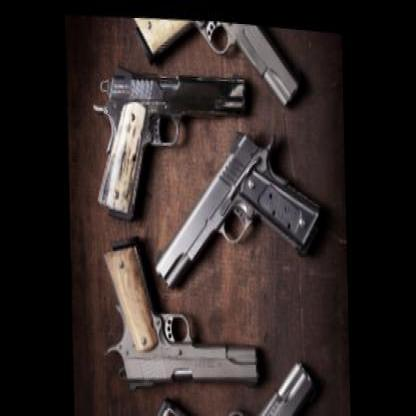pistol: (152, 110, 331, 294), (102, 223, 263, 397), (92, 55, 252, 221), (130, 11, 306, 112), (148, 336, 323, 413)
